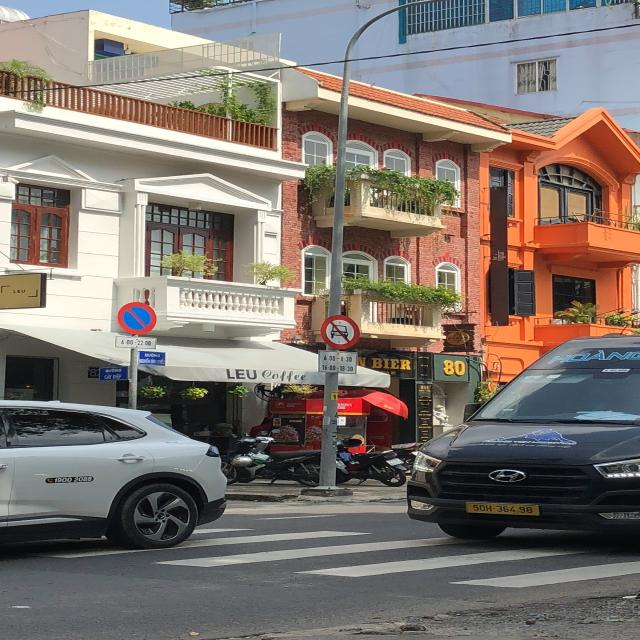Bien bao cam do xe: (116, 300, 165, 338)
Bien bao cam xe oto: (318, 314, 361, 349)
